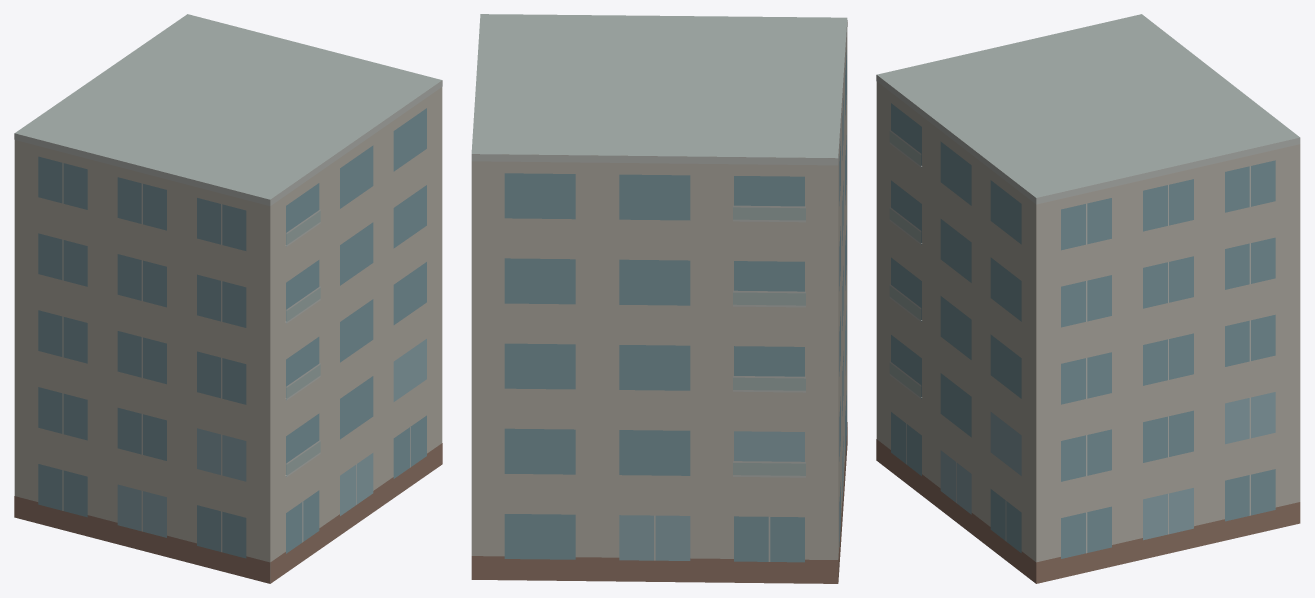
File: survey-upis-32838378.glb
3 renders of one model, left to right at view 1: azimuth 30°, elevation 25°; view 2: azimuth 150°, elevation 25°; view 3: azimuth 270°, elevation 25°, orthographic. The views are drawn at different scales.
Parts seen in each view (by area): view 1: survey-upis-32838378.tmp; view 2: survey-upis-32838378.tmp; view 3: survey-upis-32838378.tmp.
Part boxes in pixels (x1,y1,x2,y2): survey-upis-32838378.tmp: (14, 14, 442, 583); survey-upis-32838378.tmp: (471, 14, 847, 583); survey-upis-32838378.tmp: (876, 14, 1300, 583).
Bounding box in the file's own units: 14.68 × 14.35 × 14.29.
